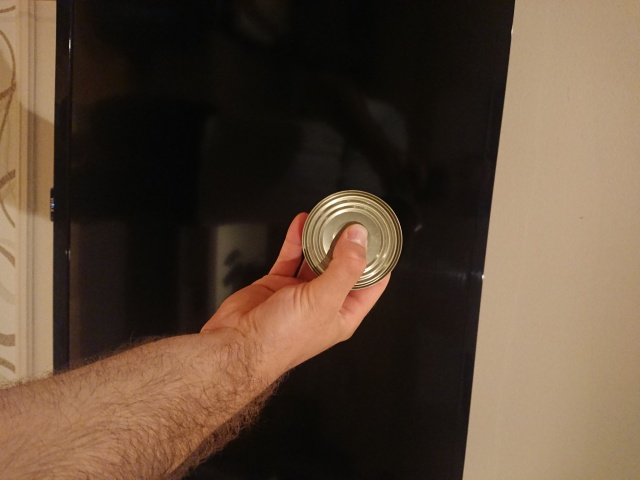Podravka Luncheon Meat 150g: (299, 187, 405, 292)
